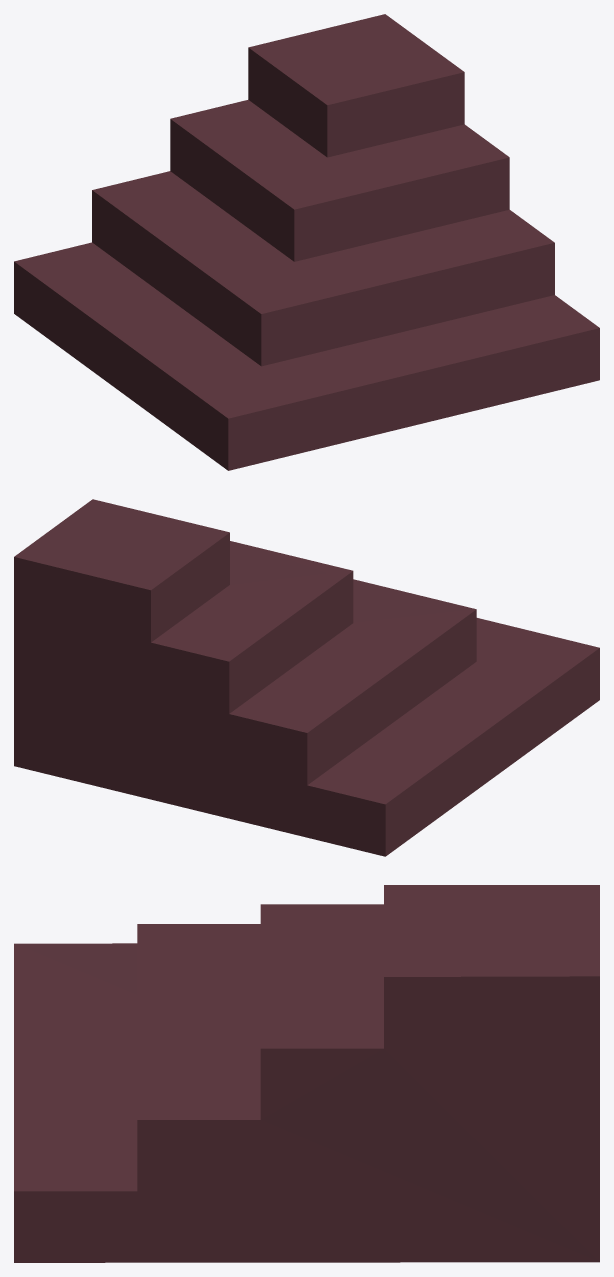
File: empire-stairs-corner-small-empire.glb
3 views of the same model, one above another, from view 1: azimuth 30°, elevation 25°; view 2: azimuth 150°, elevation 25°; view 3: azimuth 270°, elevation 25° (orthographic). The views are drawn at different scales.
Parts seen in each view (by area): view 1: SM_Stairs_Corner_Small_Empire; view 2: SM_Stairs_Corner_Small_Empire; view 3: SM_Stairs_Corner_Small_Empire.
Part boxes in pixels (box(x1,y1,x2,y2)): SM_Stairs_Corner_Small_Empire: box(14, 14, 599, 470); SM_Stairs_Corner_Small_Empire: box(14, 499, 599, 856); SM_Stairs_Corner_Small_Empire: box(14, 885, 599, 1262).
Size of the model in its own units: 1.49 by 0.8012 by 1.49.
